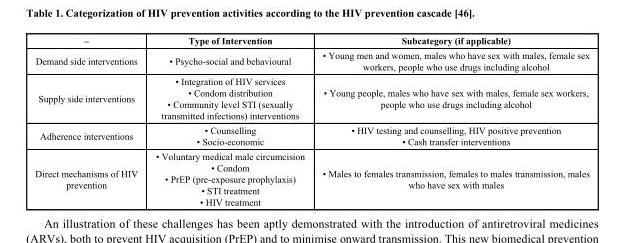table: (34, 34, 588, 206)
table column: (312, 34, 588, 206), (146, 34, 312, 206), (34, 34, 146, 206)
table column header: (34, 34, 588, 47)
table row: (34, 148, 588, 206), (34, 73, 588, 122), (34, 47, 588, 73), (34, 122, 588, 148), (34, 34, 588, 47)
